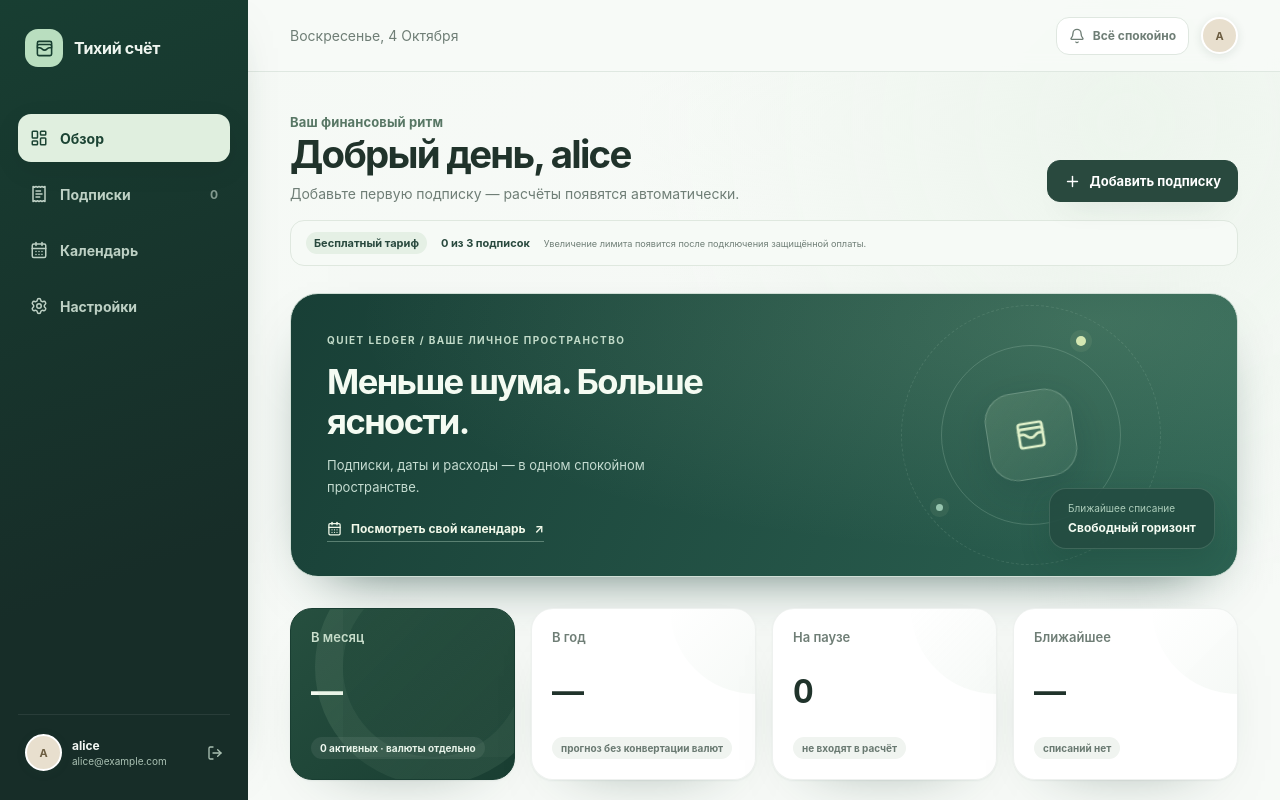
Test case: public account keeps internal ICE branding out of the interface
This screenshot has width=1280, height=800.
Click the button "Настройки". click: (124, 306)
box: [18,282,230,330]
(page scrolled)
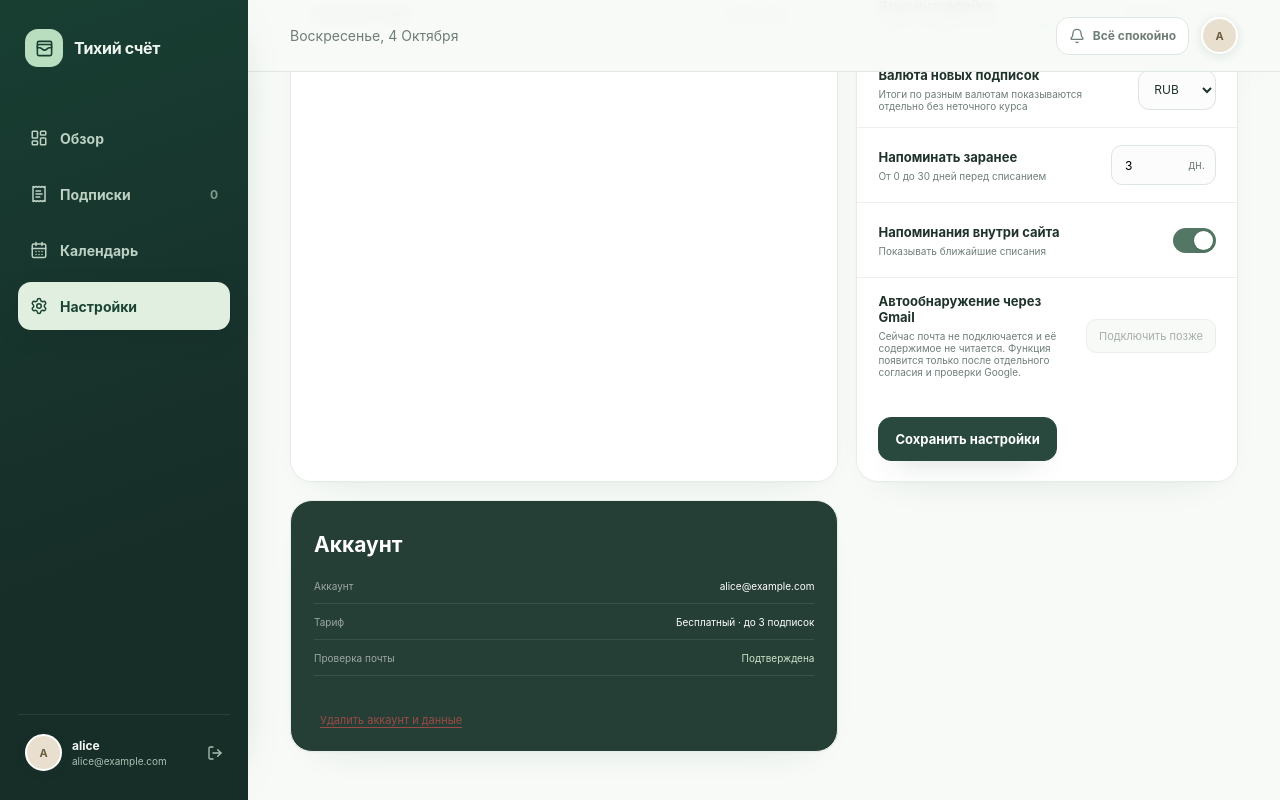
Check: the heading "Аккаунт" is shown, box [314,532,402,558]
